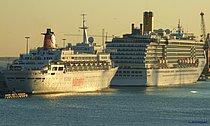Ship: (1, 27, 124, 98), (102, 13, 209, 90)
